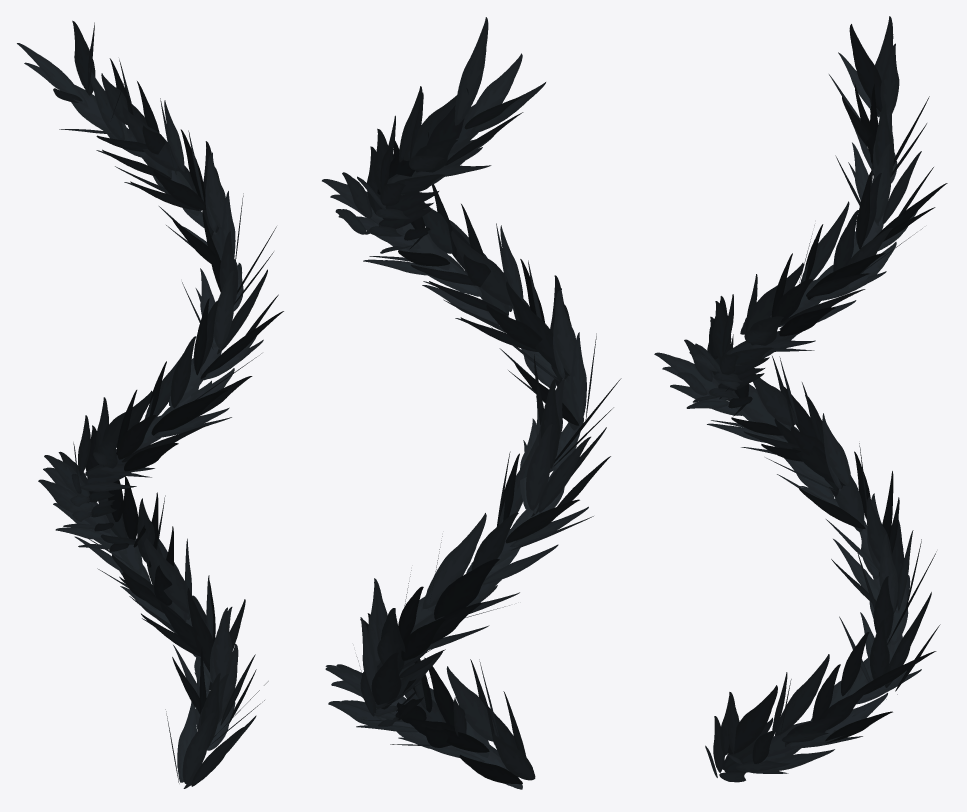
File: Sunken Tomb Kelp Spiral.fbx
3 renders of one model, left to right at view 1: azimuth 30°, elevation 25°; view 2: azimuth 150°, elevation 25°; view 3: azimuth 270°, elevation 25°, orthographic. The views are drawn at different scales.
Parts seen in each view (by area): view 1: Kelp Spiral; view 2: Kelp Spiral; view 3: Kelp Spiral.
Boxes of the visible parts, x1=… form: Kelp Spiral: x1=17, y1=20, x2=283, y2=788; Kelp Spiral: x1=322, y1=17, x2=621, y2=789; Kelp Spiral: x1=654, y1=16, x2=947, y2=782.
Size of the model in its own units: 466 by 1435 by 516.
